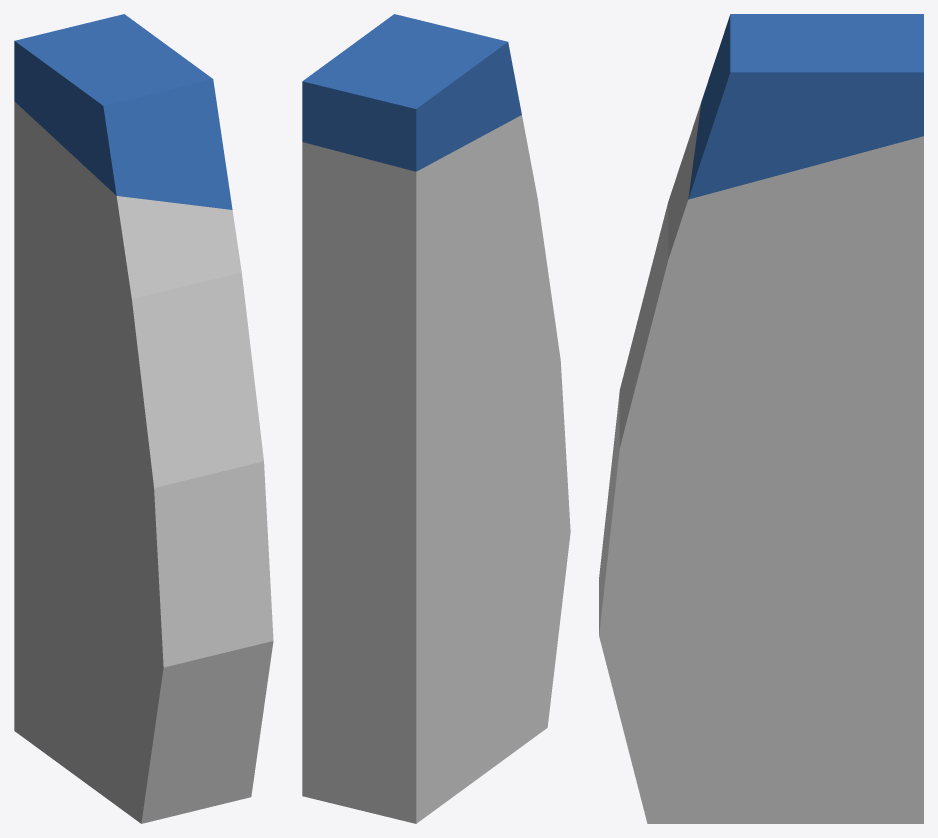
File: BotellaChampu.fbx
3 views of the same model, side by side, from view 1: azimuth 30°, elevation 25°; view 2: azimuth 150°, elevation 25°; view 3: azimuth 270°, elevation 25° (orthographic). The views are drawn at different scales.
Visible parts, largest first — view 1: Cube; view 2: Cube; view 3: Cube.
Boxes of the visible parts, left/top/right/bottom form: Cube: left=14, top=14, right=273, bottom=823; Cube: left=302, top=14, right=570, bottom=823; Cube: left=599, top=14, right=923, bottom=823.
Size of the model in its own units: 100 by 600 by 235.
